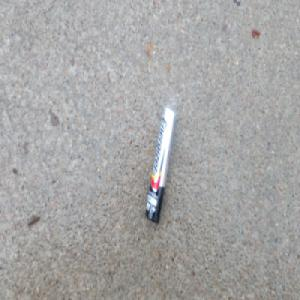Battery: (144, 106, 175, 224)
